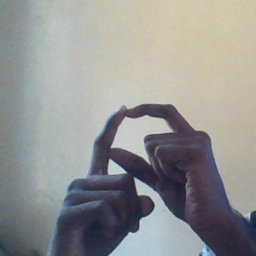D: (74, 100, 209, 221)
